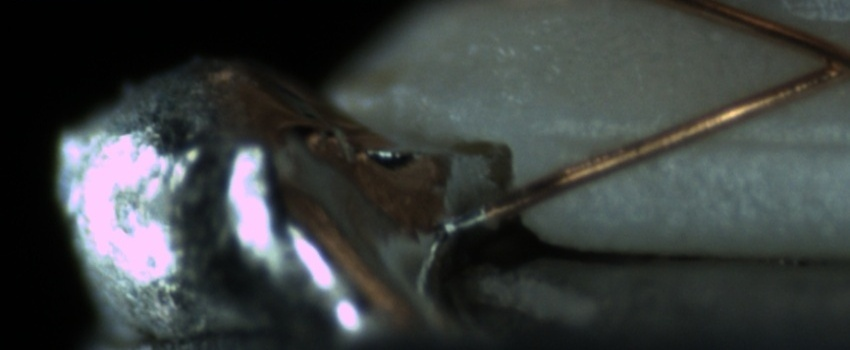CL: (796, 30, 850, 89)
DL: (557, 109, 849, 172)
TS: (436, 206, 487, 239)
